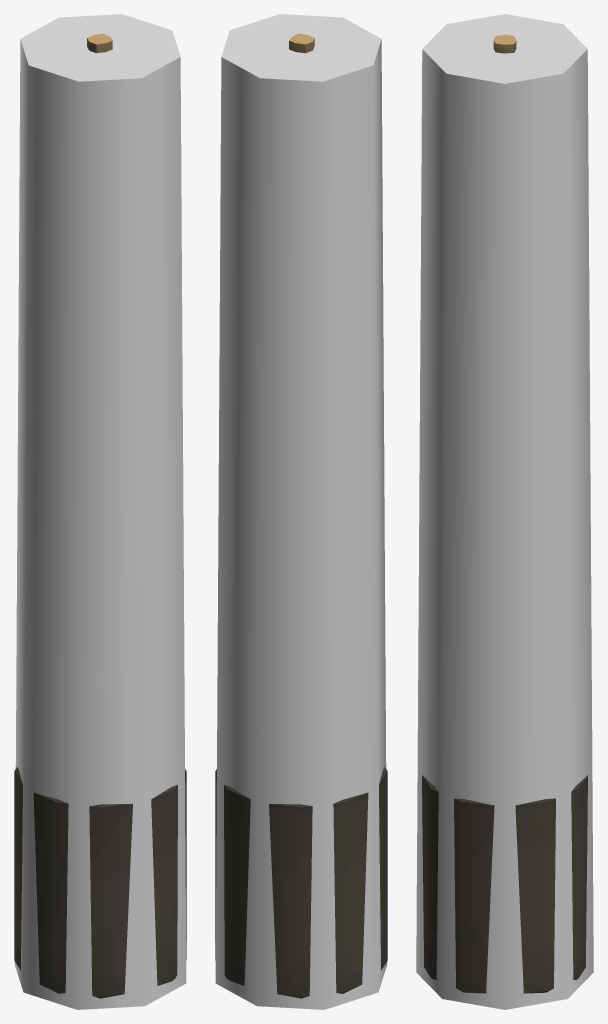
Rendered from flare01.FBX.
The picture shows the model from 3 angles, left to right: view 1: azimuth 30°, elevation 25°; view 2: azimuth 150°, elevation 25°; view 3: azimuth 270°, elevation 25°; orthographic projection.
Parts seen in each view (by area): view 1: _collide_Flare01, Flare01; view 2: _collide_Flare01, Flare01; view 3: _collide_Flare01, Flare01.
Boxes of the visible parts, bbox=[...] form: _collide_Flare01: bbox=[14, 14, 186, 1009]; Flare01: bbox=[14, 33, 186, 998]; _collide_Flare01: bbox=[215, 14, 387, 1009]; Flare01: bbox=[215, 34, 387, 998]; _collide_Flare01: bbox=[416, 14, 593, 1009]; Flare01: bbox=[422, 34, 587, 993].
Size of the model in its own units: 0.1471 by 0.1471 by 0.8524.
